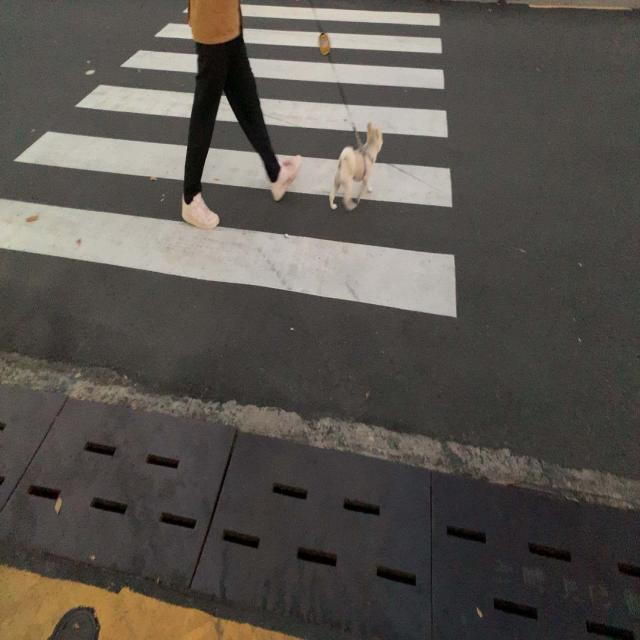Leashed_Dog: (220, 0, 384, 211)
